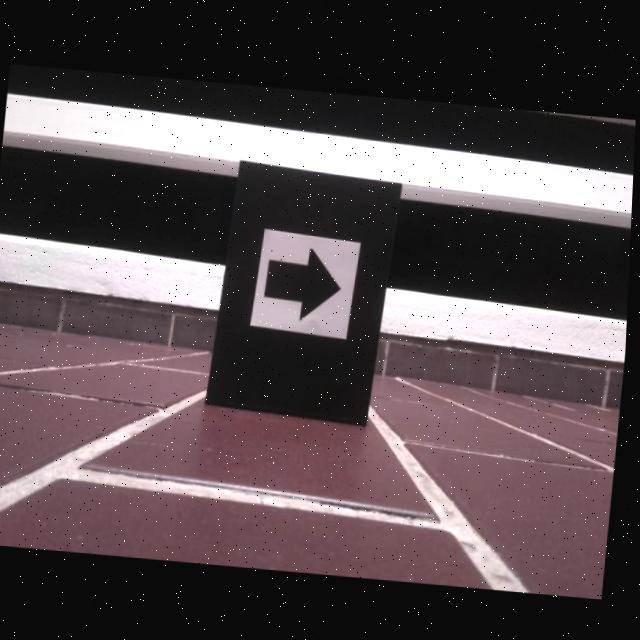RIGHT: (267, 247, 344, 320)
